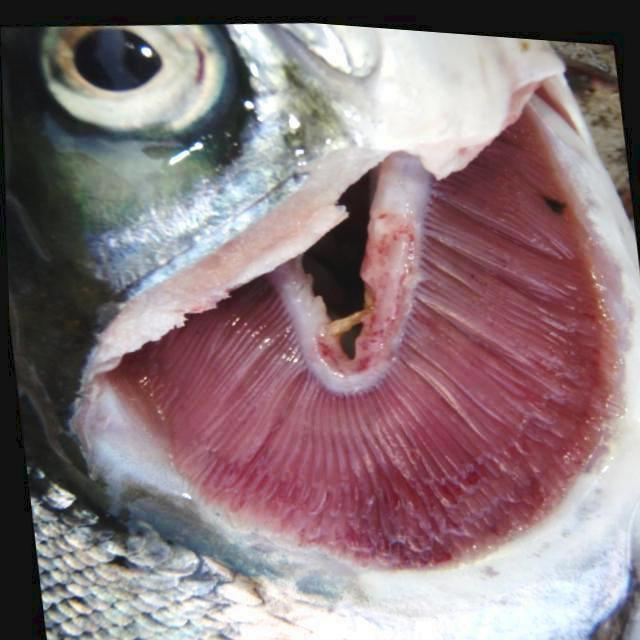Flavobacterium -Bacterial Gill Disease-: (0, 22, 639, 639), (3, 23, 639, 639)
